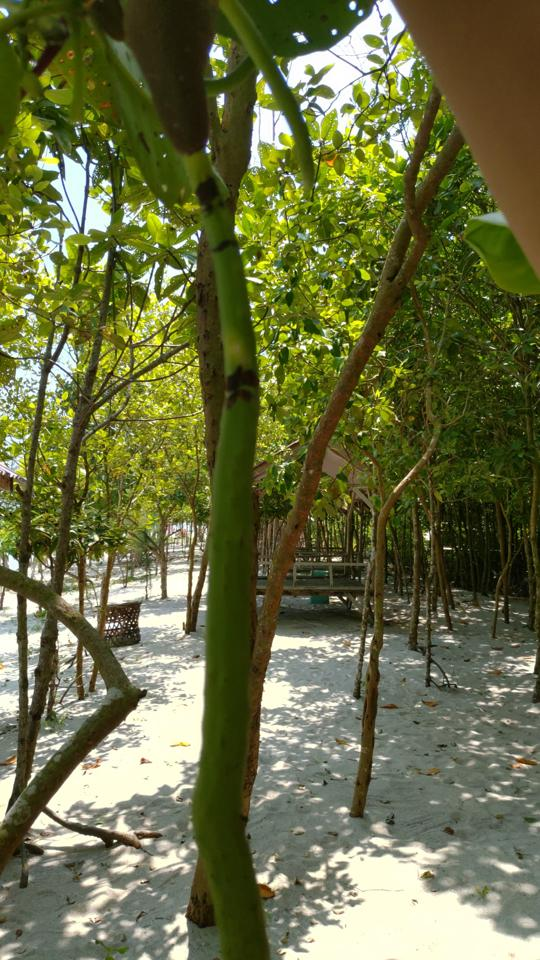setengah matang: (97, 3, 289, 955)
